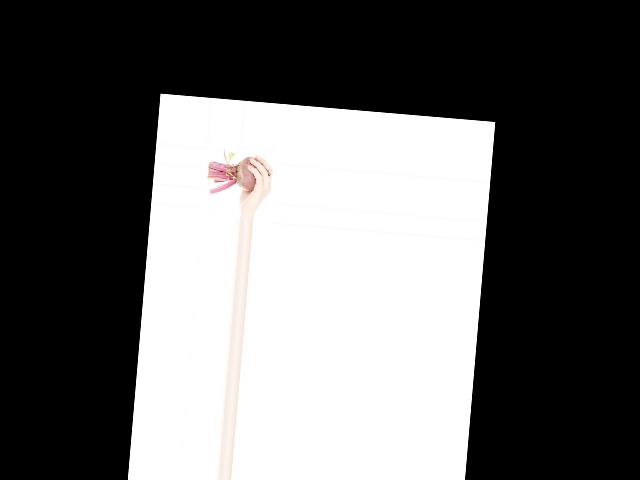beet: (206, 148, 273, 199)
